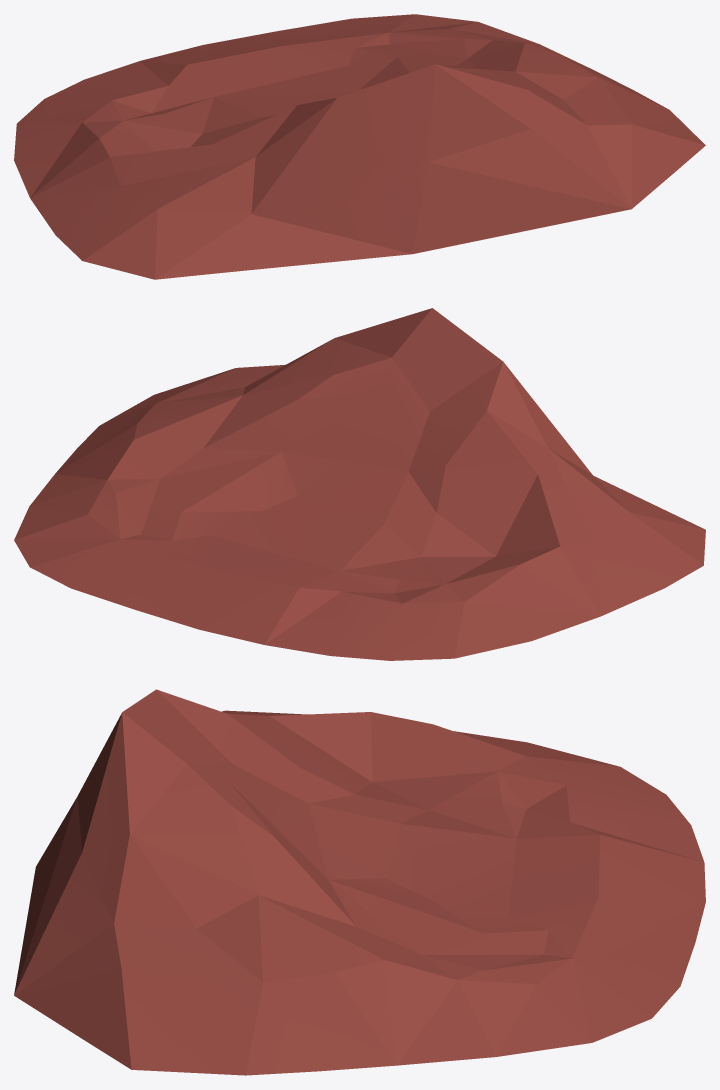
The model's file is entity108630.glb.
3 renders of one model, top to bottom at view 1: azimuth 30°, elevation 25°; view 2: azimuth 150°, elevation 25°; view 3: azimuth 270°, elevation 25°, orthographic. The views are drawn at different scales.
Parts seen in each view (by area): view 1: node_SM_Env_Ground_Slope_01 (17); view 2: node_SM_Env_Ground_Slope_01 (17); view 3: node_SM_Env_Ground_Slope_01 (17).
Part boxes in pixels (x1,y1,x2,y2): node_SM_Env_Ground_Slope_01 (17): [14, 14, 705, 279]; node_SM_Env_Ground_Slope_01 (17): [14, 308, 705, 660]; node_SM_Env_Ground_Slope_01 (17): [14, 689, 705, 1075].
Bounding box in the file's own units: 15.22 × 3.69 × 12.2.
1 material, 1 textured.
